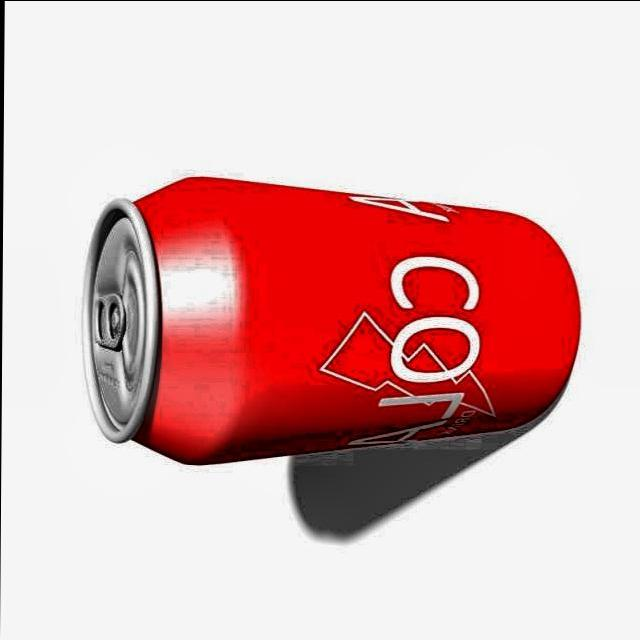litter: (68, 168, 593, 471)
